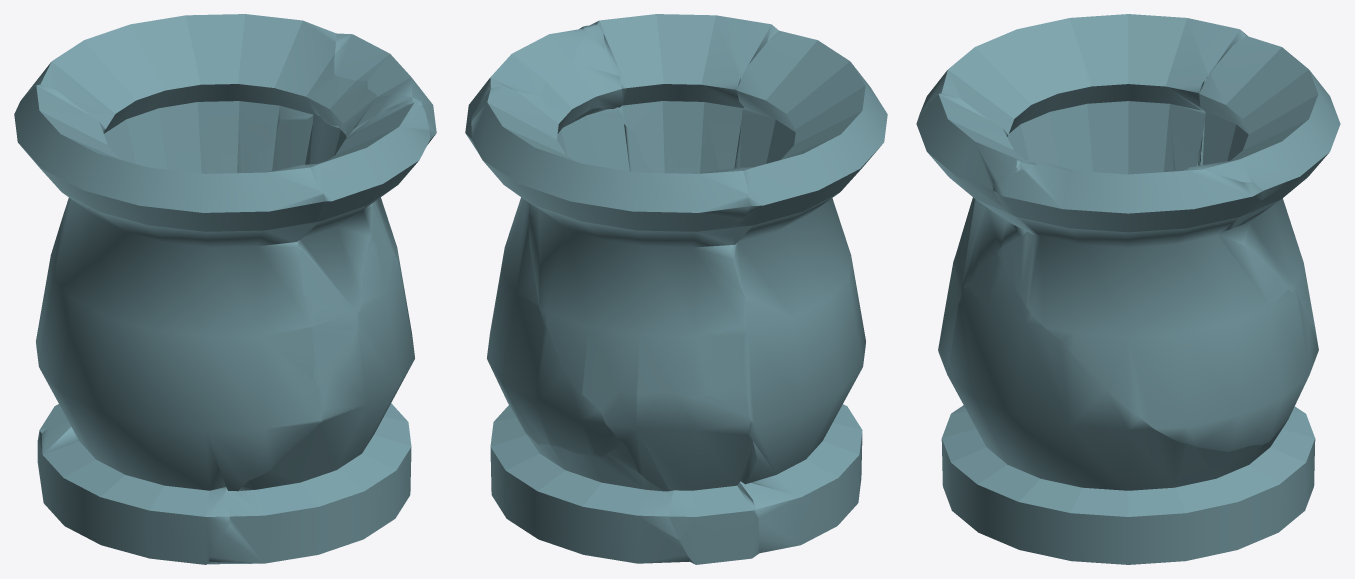
Rendered from ShatteredGlass.fbx.
3 renders of one model, left to right at view 1: azimuth 30°, elevation 25°; view 2: azimuth 150°, elevation 25°; view 3: azimuth 270°, elevation 25°, orthographic.
Visible parts, largest first — view 1: shard1, shard3, shard7, shard4, shard8, shard5; view 2: shard3, shard1, shard4, shard9, shard7, shard8, shard5; view 3: shard8, shard7, shard1, shard3, shard4.
Part boxes in pixels (x1,y1,x2,y2): shard1: (14,84,324,564); shard3: (24,14,423,173); shard7: (208,243,414,564); shard4: (296,102,429,401); shard8: (334,33,436,262); shard5: (247,114,346,172); shard3: (471,24,749,396); shard1: (730,30,887,553); shard4: (593,14,778,173); shard9: (582,383,759,564); shard7: (490,405,689,563); shard8: (465,27,626,456); shard5: (557,107,652,172); shard8: (993,161,1318,451); shard7: (938,251,1315,564); shard1: (920,14,1247,352); shard3: (1015,36,1340,326); shard4: (916,93,1033,336).
Bounding box in the file's own units: 8.2 × 8.44 × 8.2.
